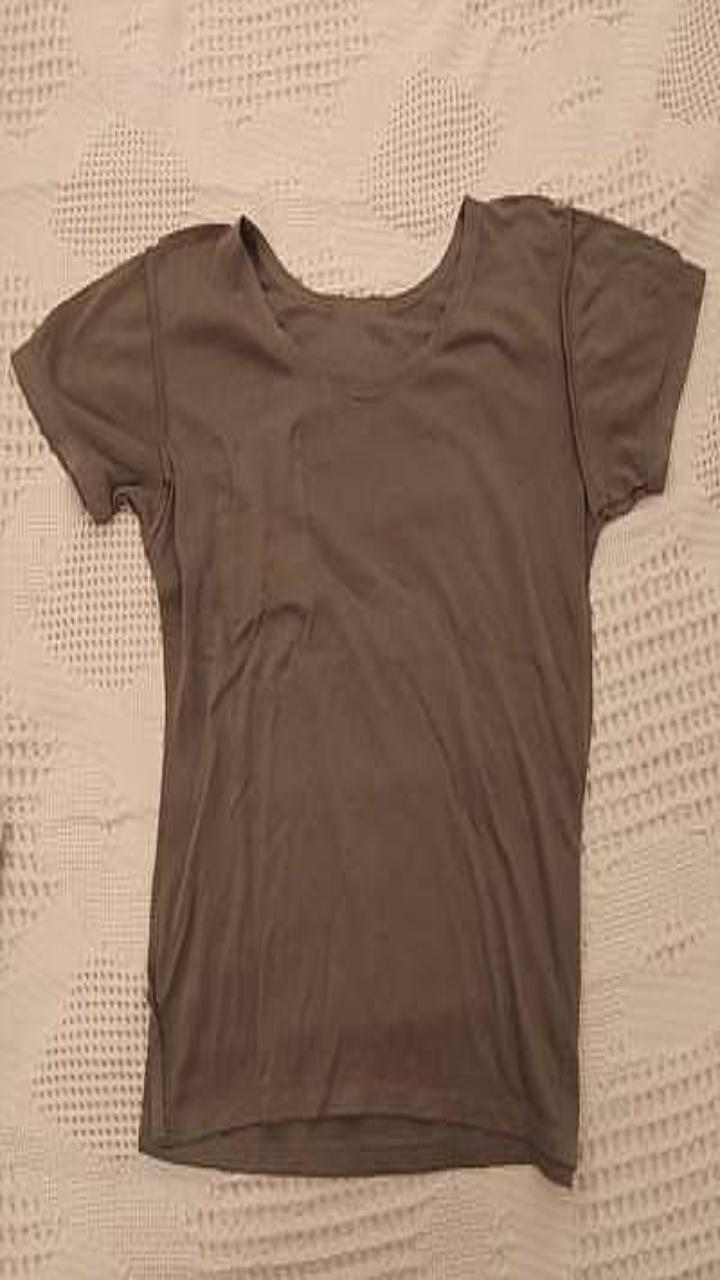T-Shirt: (11, 193, 704, 1184)
